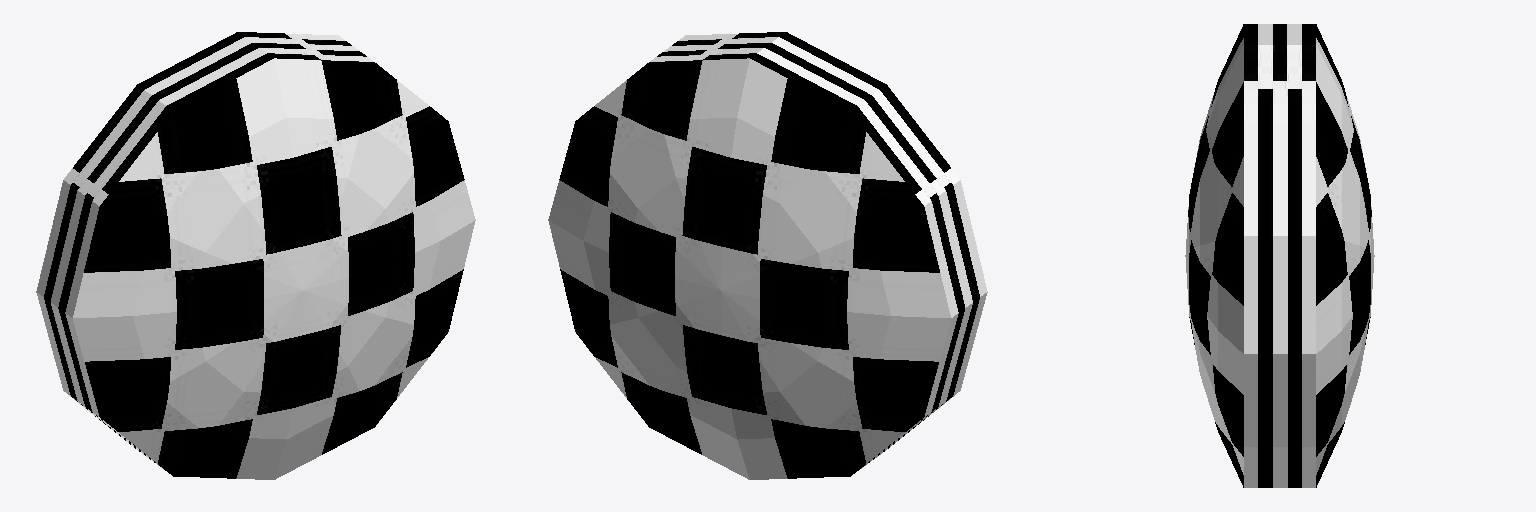
3 renders of one model, left to right at view 1: azimuth 30°, elevation 25°; view 2: azimuth 150°, elevation 25°; view 3: azimuth 270°, elevation 25°, orthographic.
Parts seen in each view (by area): view 1: OilTank01; view 2: OilTank01; view 3: OilTank01.
Boxes of the visible parts, <box> form: OilTank01: <box>36,32,475,479</box>; OilTank01: <box>548,32,987,479</box>; OilTank01: <box>1185,24,1374,487</box>.
Size of the model in its own units: 186 by 186 by 75.62.
2 materials, 2 textured.